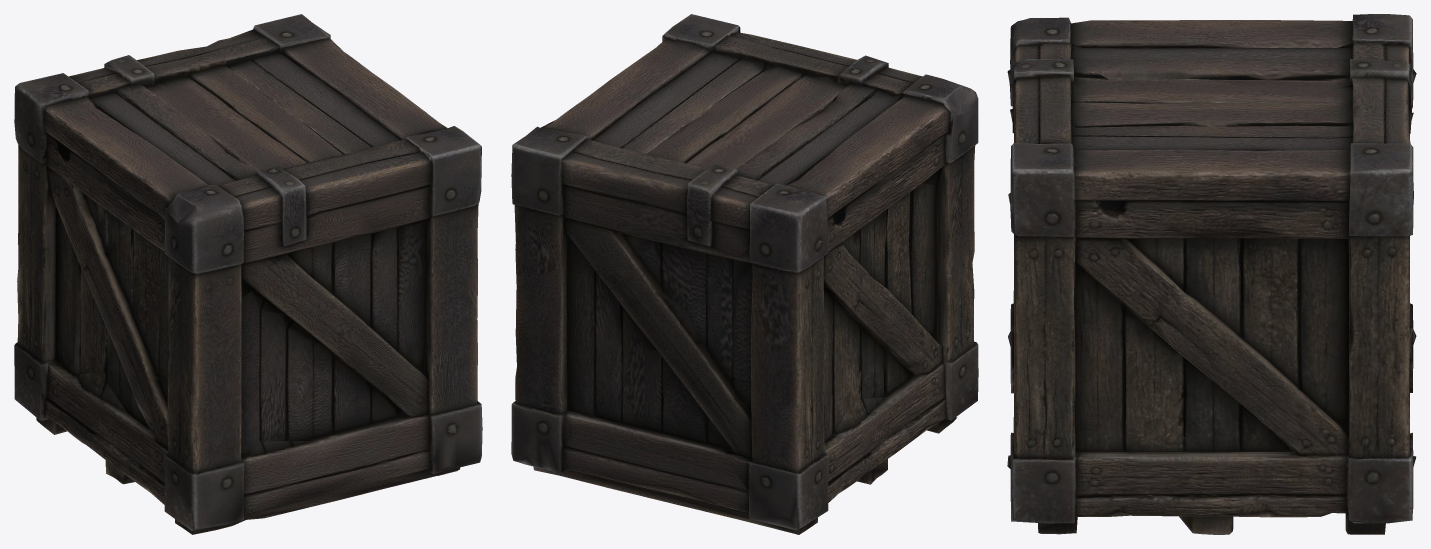
File: reinforced-crate.glb
The picture shows the model from 3 angles, left to right: view 1: azimuth 30°, elevation 25°; view 2: azimuth 150°, elevation 25°; view 3: azimuth 270°, elevation 25°; orthographic projection. The views are drawn at different scales.
Visible parts, largest first — view 1: tripo_node_6f448570-0893-464f-95e9-5c1fe5143436; view 2: tripo_node_6f448570-0893-464f-95e9-5c1fe5143436; view 3: tripo_node_6f448570-0893-464f-95e9-5c1fe5143436.
Boxes of the visible parts, x1,y1,x2,y2 form: tripo_node_6f448570-0893-464f-95e9-5c1fe5143436: (14, 14, 482, 534); tripo_node_6f448570-0893-464f-95e9-5c1fe5143436: (511, 14, 978, 534); tripo_node_6f448570-0893-464f-95e9-5c1fe5143436: (1007, 14, 1416, 534).
Bounding box in the file's own units: 0.9131 × 1 × 0.9855.
1 material, 1 textured.
